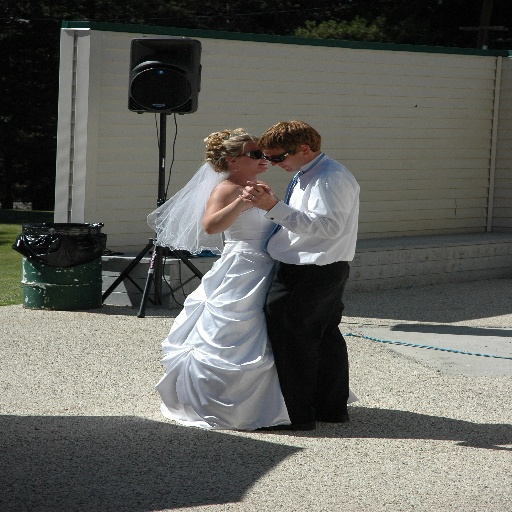hand: (243, 182, 275, 206)
